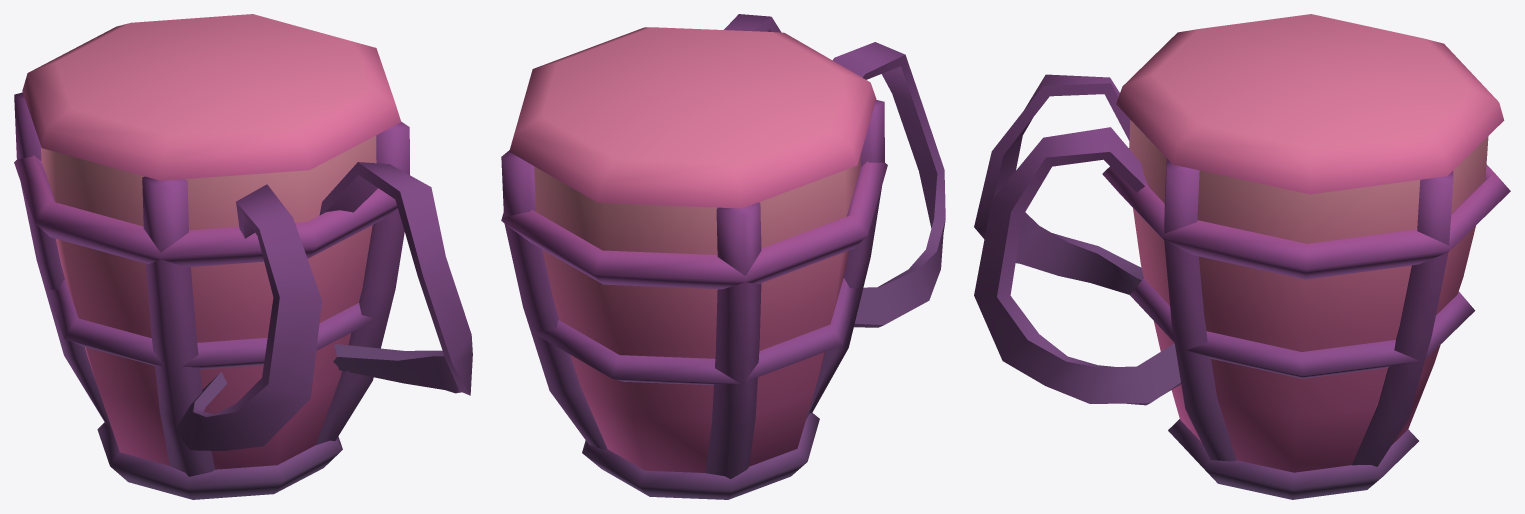
Rendered from SM_Basket.fbx.
The picture shows the model from 3 angles, left to right: view 1: azimuth 30°, elevation 25°; view 2: azimuth 150°, elevation 25°; view 3: azimuth 270°, elevation 25°; orthographic projection. The views are drawn at different scales.
Parts seen in each view (by area): view 1: SM_BasketBase, SM_BasketLid; view 2: SM_BasketBase, SM_BasketLid; view 3: SM_BasketBase, SM_BasketLid.
Part boxes in pixels (bbox=[...]): SM_BasketBase: bbox=[14, 92, 472, 499]; SM_BasketLid: bbox=[22, 14, 401, 180]; SM_BasketBase: bbox=[501, 14, 945, 499]; SM_BasketLid: bbox=[509, 27, 876, 208]; SM_BasketBase: bbox=[974, 74, 1510, 499]; SM_BasketLid: bbox=[1116, 14, 1504, 194].
Size of the model in its own units: 2.08 by 2.17 by 2.73.
